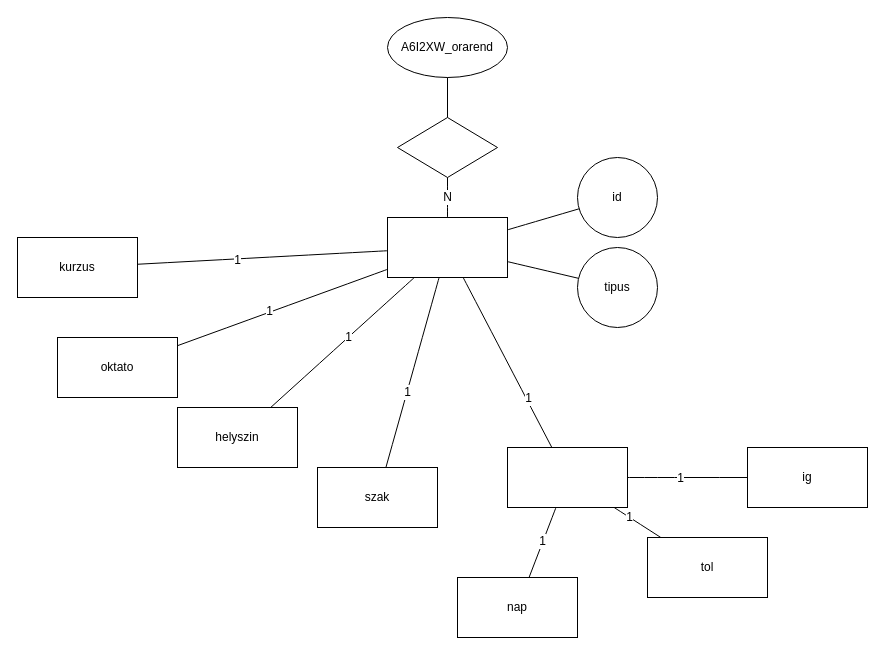
This 885x655 diagram has some shape labels left out. The centre of each missing label's shape, as x and y in pixels:
idopont: the point at 567,477
ora: the point at 447,247
Tartalmaz: the point at 447,147
